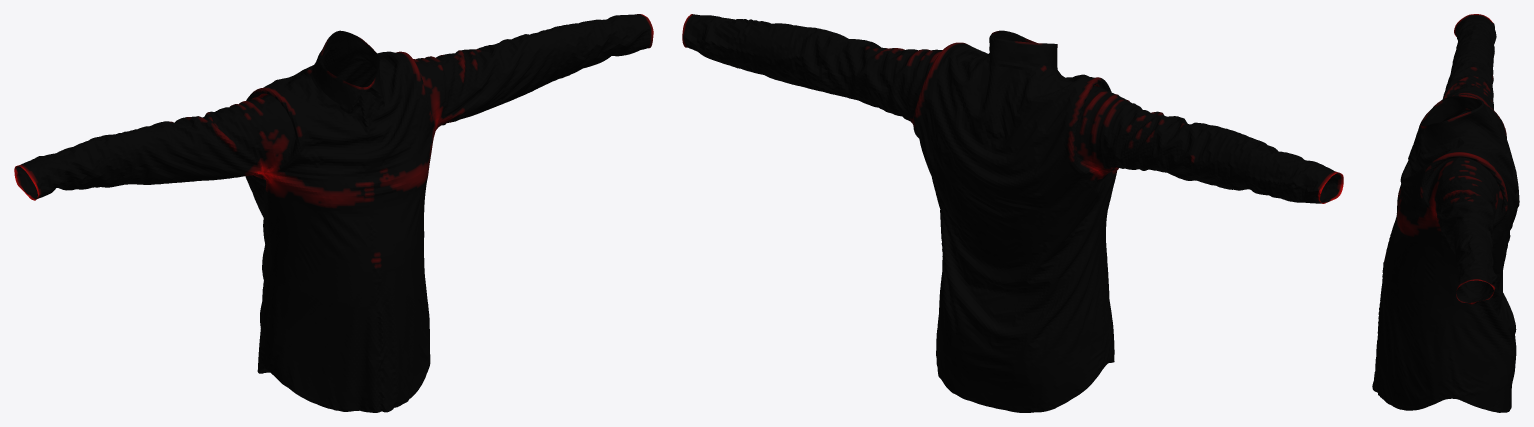
File: heatMap.obj
3 renders of one model, left to right at view 1: azimuth 30°, elevation 25°; view 2: azimuth 150°, elevation 25°; view 3: azimuth 270°, elevation 25°, orthographic. The views are drawn at different scales.
Size of the model in its own units: 57.9 by 30.28 by 13.46.
